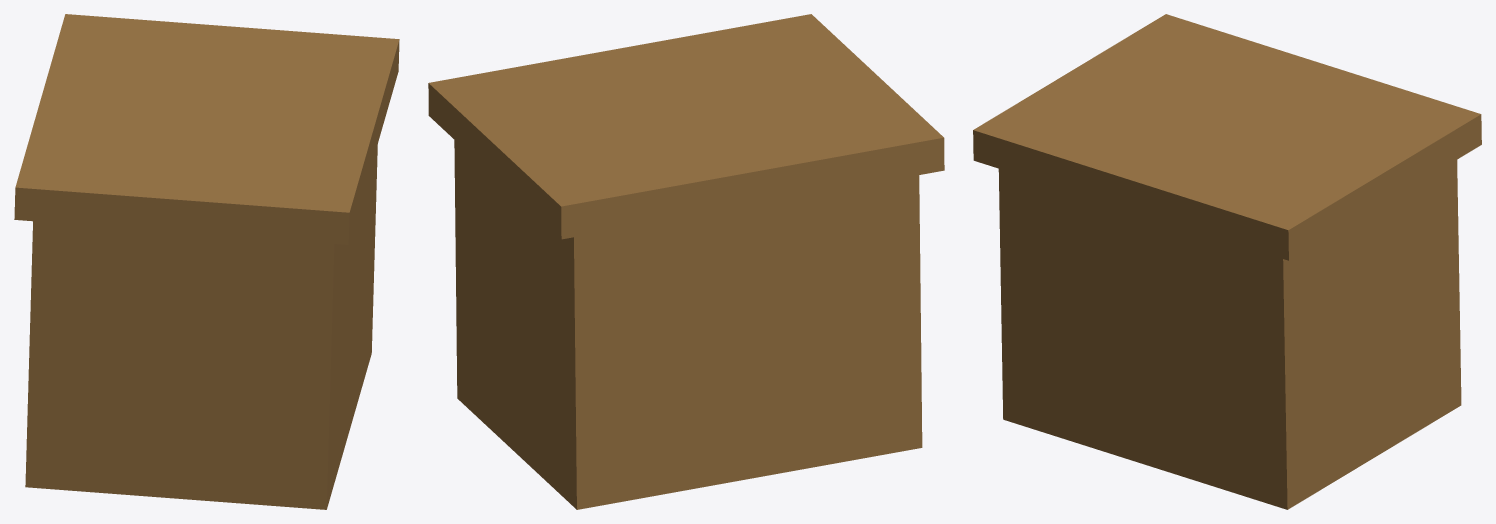
File: Caja_2.fbx
The picture shows the model from 3 angles, left to right: view 1: azimuth 30°, elevation 25°; view 2: azimuth 150°, elevation 25°; view 3: azimuth 270°, elevation 25°; orthographic projection. The views are drawn at different scales.
Parts seen in each view (by area): view 1: Caja_2; view 2: Caja_2; view 3: Caja_2.
Boxes of the visible parts, x1,y1,x2,y2 form: Caja_2: (14, 14, 399, 509); Caja_2: (428, 14, 944, 509); Caja_2: (973, 14, 1481, 509).
Bounding box in the file's own units: 60.64 × 40.66 × 62.41.
